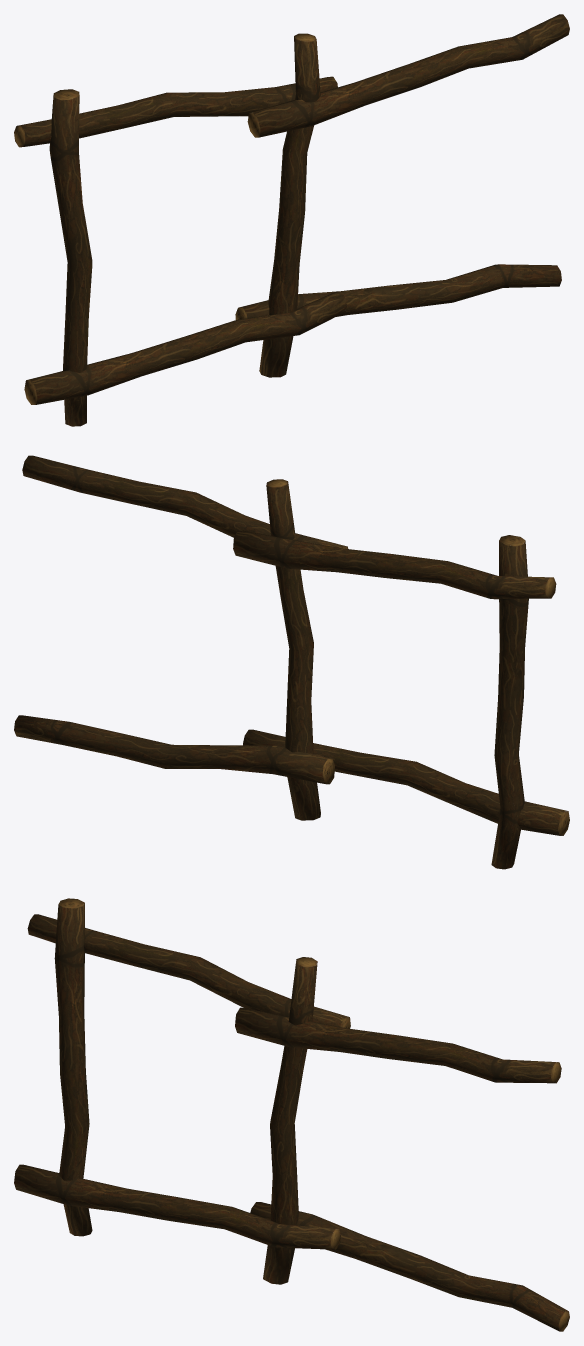
Rendered from shared_stick_fance_00.fbx.
3 renders of one model, top to bottom at view 1: azimuth 30°, elevation 25°; view 2: azimuth 150°, elevation 25°; view 3: azimuth 330°, elevation 25°, orthographic.
Parts seen in each view (by area): view 1: shared_stick_fance_00; view 2: shared_stick_fance_00; view 3: shared_stick_fance_00.
Part boxes in pixels (x1,y1,x2,y2): shared_stick_fance_00: (14, 14, 569, 426); shared_stick_fance_00: (14, 455, 569, 869); shared_stick_fance_00: (14, 898, 569, 1331).
Size of the model in its own units: 2.04 by 1.19 by 0.235.
